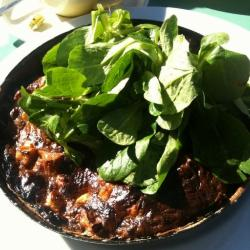salad: (42, 23, 249, 196)
